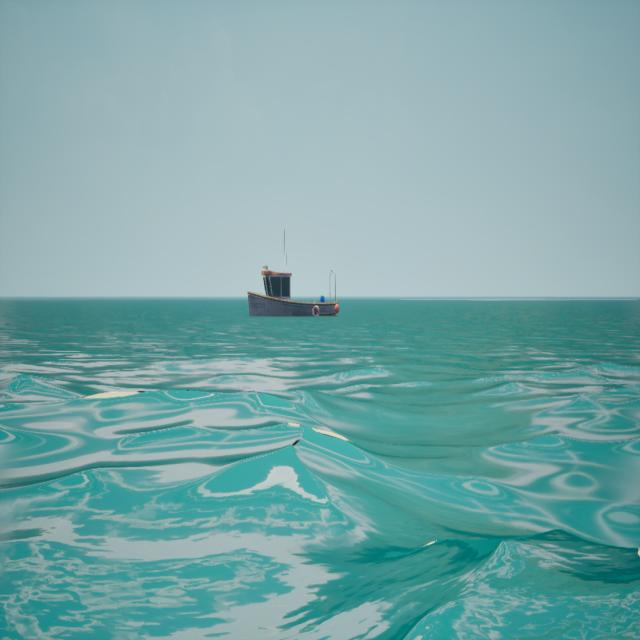ship: (240, 213, 344, 330)
